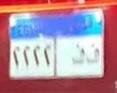2: (32, 45, 42, 68), (22, 45, 31, 69), (43, 46, 53, 67), (12, 46, 21, 68)
faa: (86, 43, 101, 66), (72, 44, 85, 67)
